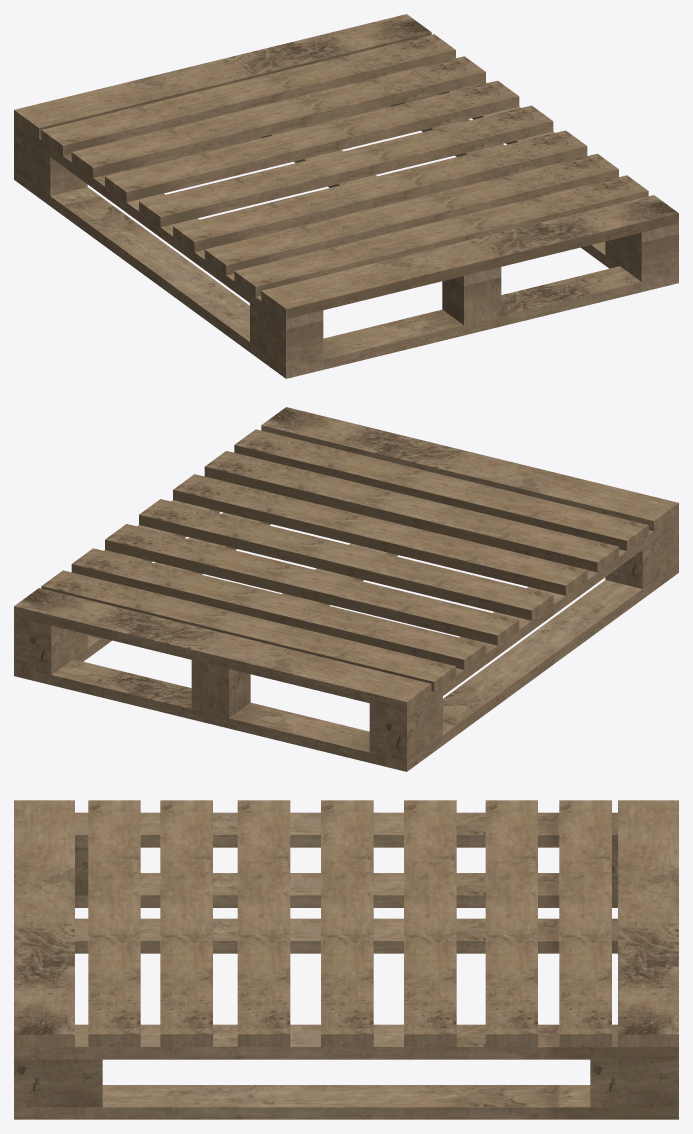
The model's file is pallet-euro.glb.
3 renders of one model, top to bottom at view 1: azimuth 30°, elevation 25°; view 2: azimuth 150°, elevation 25°; view 3: azimuth 270°, elevation 25°, orthographic. The views are drawn at different scales.
Parts seen in each view (by area): view 1: poddon1.009, poddon1.012, poddon1.013, poddon1.014, poddon1.011, poddon1.015, poddon1.010, poddon1.001, poddon1.002, poddon1.016, poddon1.022, poddon1.003 (+7 smaller); view 2: poddon1.001, poddon1.013, poddon1.011, poddon1.012, poddon1.010, poddon1.009, poddon1.014, poddon1.002, poddon1.016, poddon1.015, poddon1.018, poddon1.003 (+7 smaller); view 3: poddon1.017, poddon1.009, poddon1.001, poddon1.011, poddon1.002, poddon1.010, poddon1.012, poddon1.013, poddon1.014, poddon1.015, poddon1.007, poddon1.008 (+5 smaller).
Boxes of the visible parts, x1,y1,x2,y2 form: poddon1.009: (261,195,678,319); poddon1.012: (139,105,553,227); poddon1.013: (105,80,519,202); poddon1.014: (71,56,485,177); poddon1.011: (173,130,587,252); poddon1.015: (41,34,455,155); poddon1.010: (204,153,618,275); poddon1.001: (14,14,431,138); poddon1.002: (234,175,648,296); poddon1.016: (14,170,323,378); poddon1.022: (323,266,641,369); poddon1.003: (14,120,323,329); poddon1.001: (14,588,431,712); poddon1.013: (105,524,519,645); poddon1.011: (173,474,587,595); poddon1.012: (139,499,553,620); poddon1.010: (204,451,618,572); poddon1.009: (261,407,678,531); poddon1.014: (71,548,485,669); poddon1.002: (234,429,648,550); poddon1.016: (369,563,678,771); poddon1.015: (41,570,455,691); poddon1.018: (51,659,369,762); poddon1.003: (369,513,678,722); poddon1.017: (14,1085,678,1119); poddon1.009: (14,800,74,1046); poddon1.001: (618,800,678,1046); poddon1.011: (237,800,290,1046); poddon1.002: (88,800,140,1046); poddon1.010: (160,800,212,1046); poddon1.012: (321,800,373,1046); poddon1.013: (404,800,456,1046); poddon1.014: (485,800,537,1046); poddon1.015: (559,800,611,1046); poddon1.007: (14,1024,678,1059); poddon1.008: (75,918,617,953).
Bounding box in the file's own units: 0.8455 × 0.144 × 1.01.
Materials: 1 (1 with a texture image).
